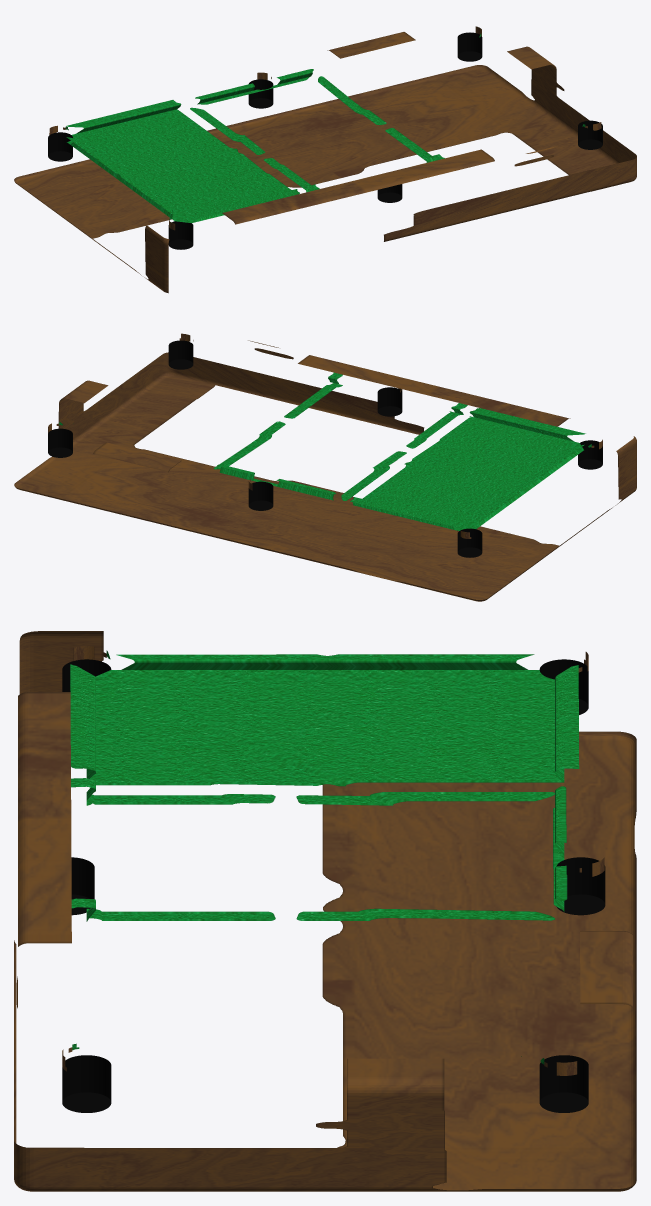
File: billardtable.fbx
The picture shows the model from 3 angles, top to bottom: view 1: azimuth 30°, elevation 25°; view 2: azimuth 150°, elevation 25°; view 3: azimuth 270°, elevation 25°; orthographic projection. The views are drawn at different scales.
Visible parts, largest first — view 1: Tabletop; view 2: Tabletop; view 3: Tabletop.
Boxes of the visible parts, bbox=[...] form: Tabletop: bbox=[14, 26, 636, 293]; Tabletop: bbox=[14, 333, 636, 601]; Tabletop: bbox=[14, 631, 636, 1191].
Size of the model in its own units: 264 by 30 by 152.
